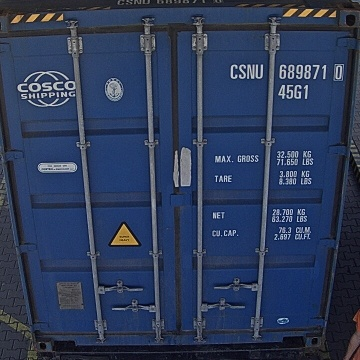serial_id: (231, 64, 344, 79)
